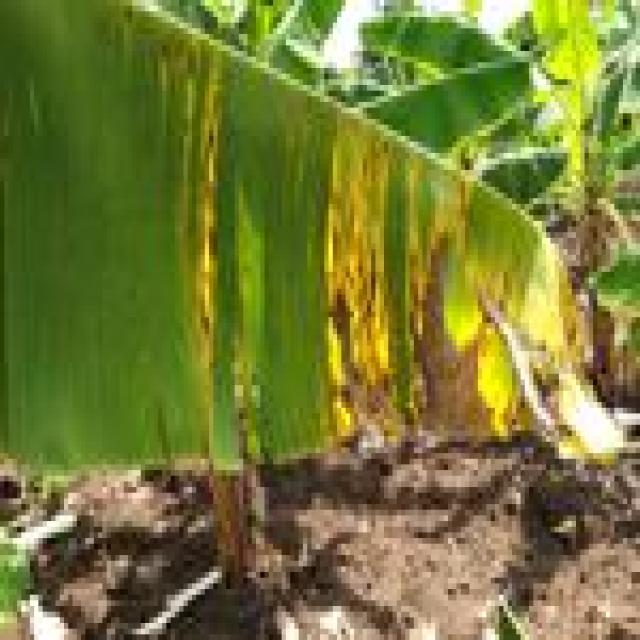Early_rust: (93, 0, 588, 502)
